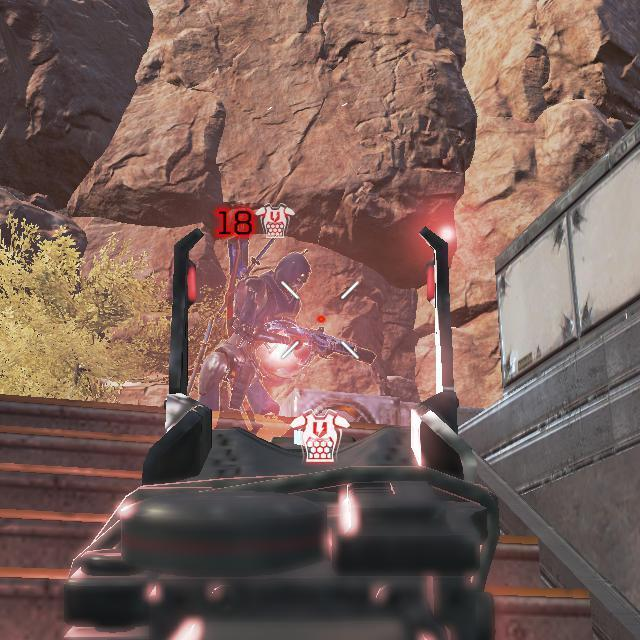avatar: (193, 251, 314, 419)
